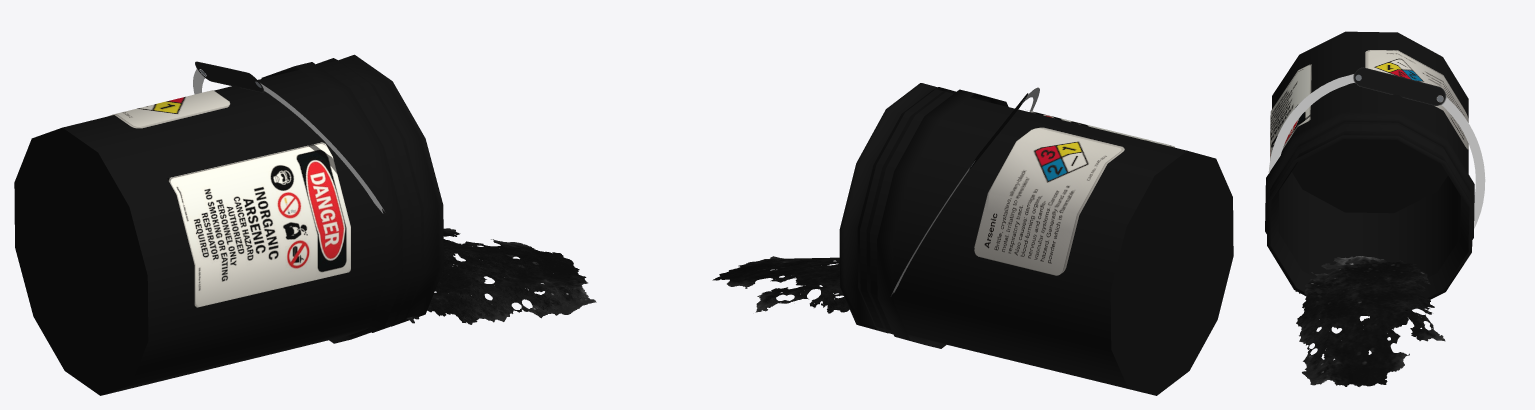
File: Arsenic_Bucket_Spilled.fbx
3 renders of one model, left to right at view 1: azimuth 30°, elevation 25°; view 2: azimuth 150°, elevation 25°; view 3: azimuth 270°, elevation 25°, orthographic. The views are drawn at different scales.
Visible parts, largest first — view 1: 5GallonBucket.001; view 2: 5GallonBucket.001; view 3: 5GallonBucket.001.
Part boxes in pixels (bbox=[...]): 5GallonBucket.001: bbox=[14, 54, 596, 395]; 5GallonBucket.001: bbox=[712, 83, 1233, 395]; 5GallonBucket.001: bbox=[1265, 31, 1485, 386].
Size of the model in its own units: 68.53 by 44.07 by 40.89.
